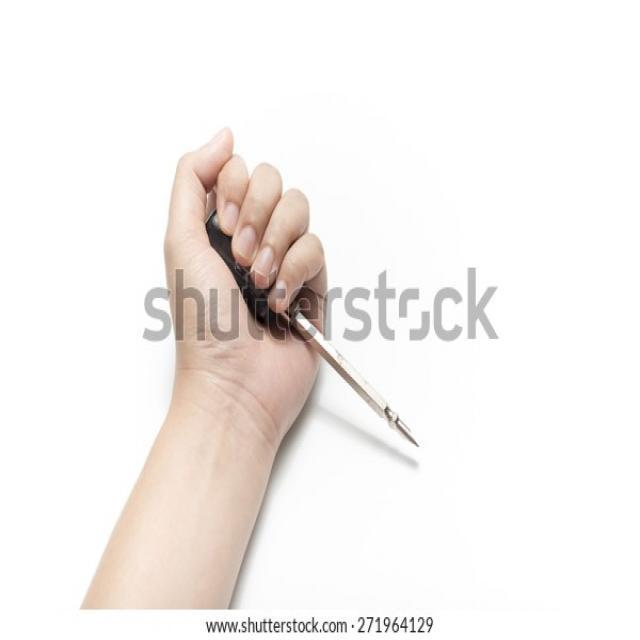screwdriver: (206, 208, 424, 458)
